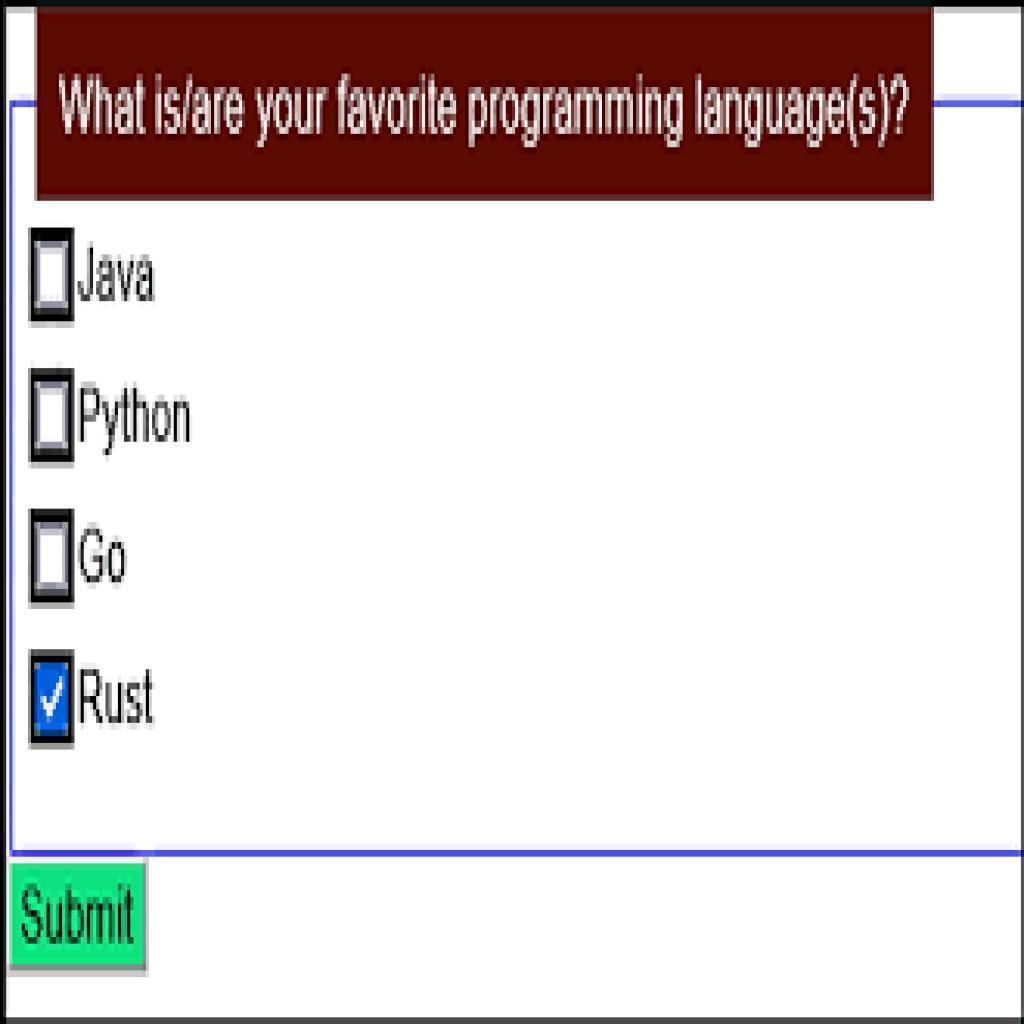checkbox: (28, 367, 75, 467), (28, 508, 76, 605), (29, 651, 76, 749), (29, 228, 75, 321)
label: (77, 377, 195, 455), (79, 241, 158, 308), (77, 520, 127, 588)
